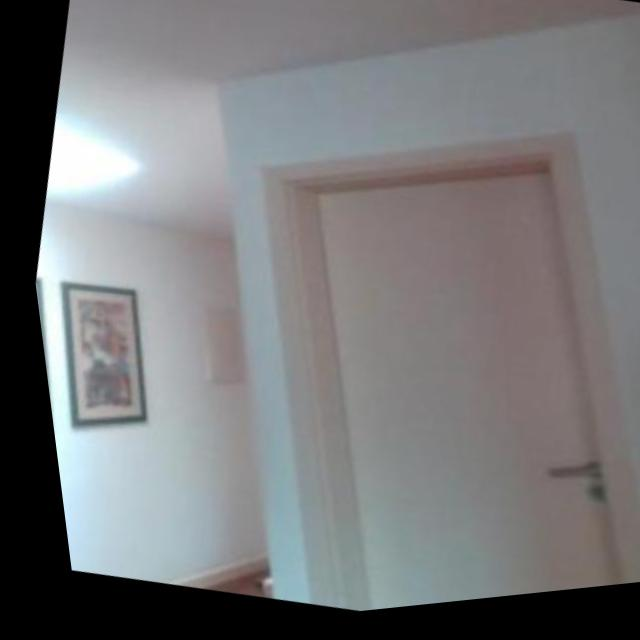door_handle: (503, 457, 596, 523)
